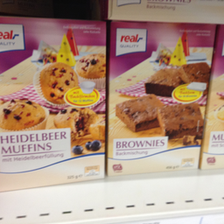cake: (1, 19, 106, 190), (108, 19, 217, 175)
